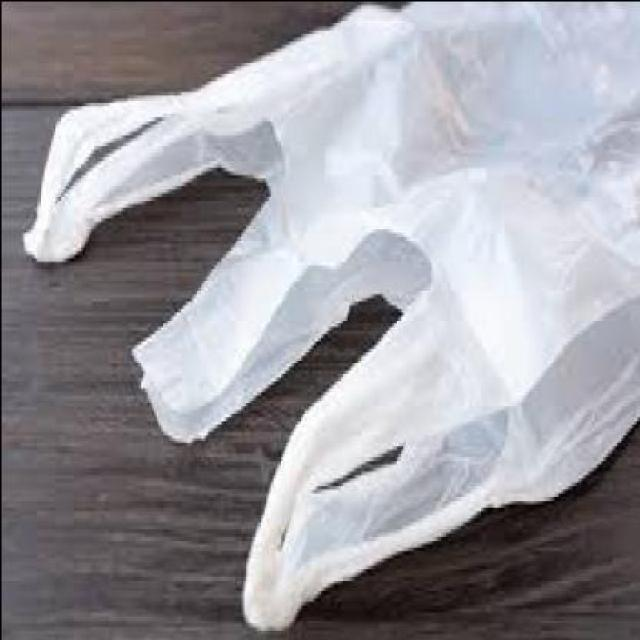PLASTIC: (20, 5, 640, 629)
